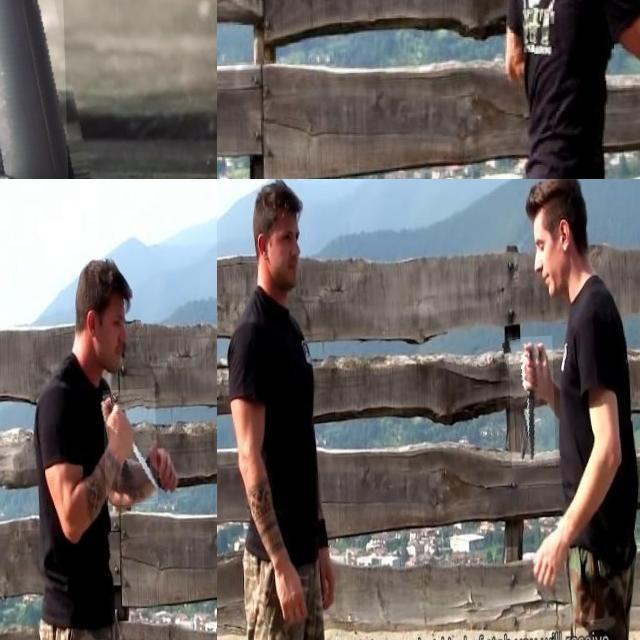-: (102, 390, 156, 508), (506, 340, 554, 472)
gun-knife-thesis - v11 Yolov5 augmented: (0, 0, 108, 179)
